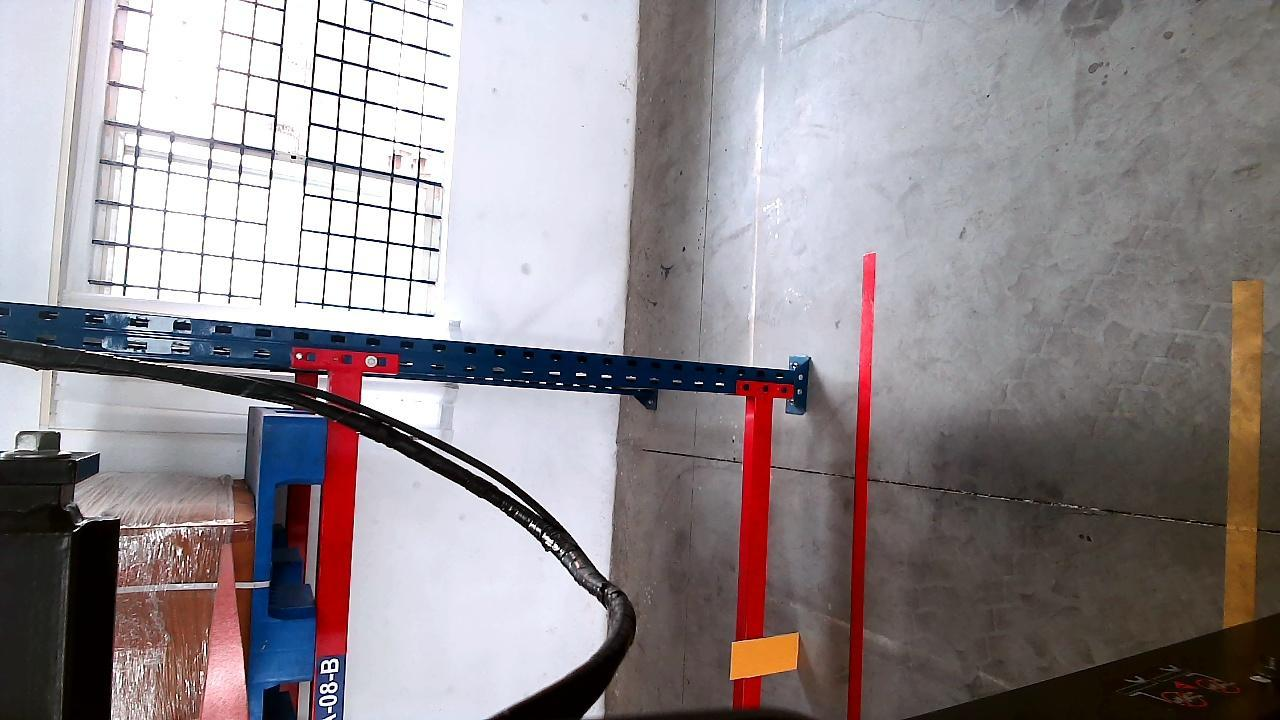red_line: (847, 252, 874, 720)
yellow_line: (1224, 283, 1257, 628)
